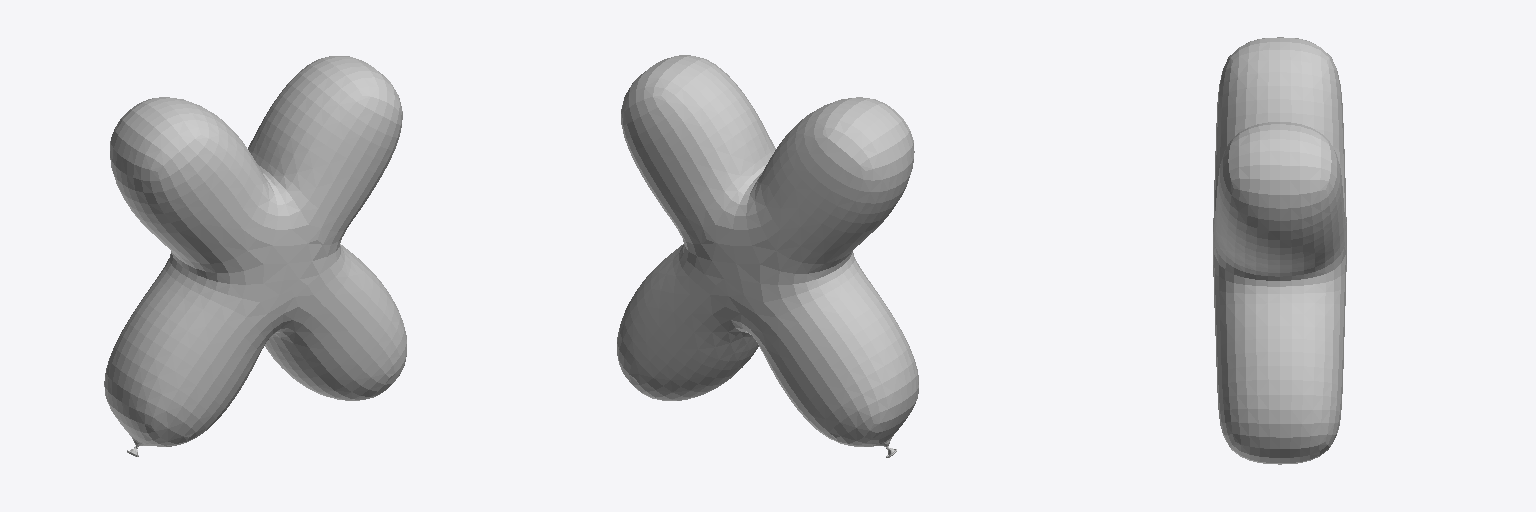
3 renders of one model, left to right at view 1: azimuth 30°, elevation 25°; view 2: azimuth 150°, elevation 25°; view 3: azimuth 270°, elevation 25°, orthographic.
Parts seen in each view (by area): view 1: Balloon_Alphabet_Subdivision_X_Alphabet_X; view 2: Balloon_Alphabet_Subdivision_X_Alphabet_X; view 3: Balloon_Alphabet_Subdivision_X_Alphabet_X.
Boxes of the visible parts, x1,y1,x2,y2 form: Balloon_Alphabet_Subdivision_X_Alphabet_X: [104, 56, 406, 456]; Balloon_Alphabet_Subdivision_X_Alphabet_X: [617, 55, 918, 457]; Balloon_Alphabet_Subdivision_X_Alphabet_X: [1213, 37, 1346, 464].
Size of the model in its own units: 43.03 by 50.57 by 17.84.